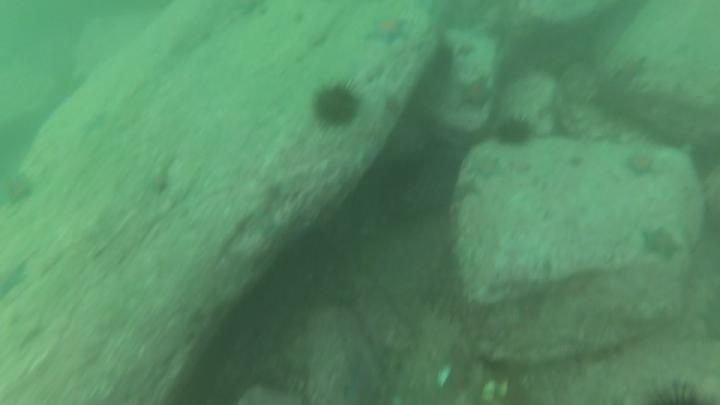echinus: (309, 79, 364, 130), (640, 375, 717, 405), (493, 113, 536, 150), (426, 41, 458, 83)
starfish: (636, 223, 687, 266), (338, 358, 384, 405), (362, 11, 413, 50), (139, 154, 180, 201), (277, 329, 318, 376), (455, 73, 496, 113), (0, 169, 38, 211), (0, 255, 32, 304), (610, 51, 651, 88), (73, 108, 114, 145), (620, 148, 661, 181), (466, 152, 506, 184), (450, 173, 484, 207)
